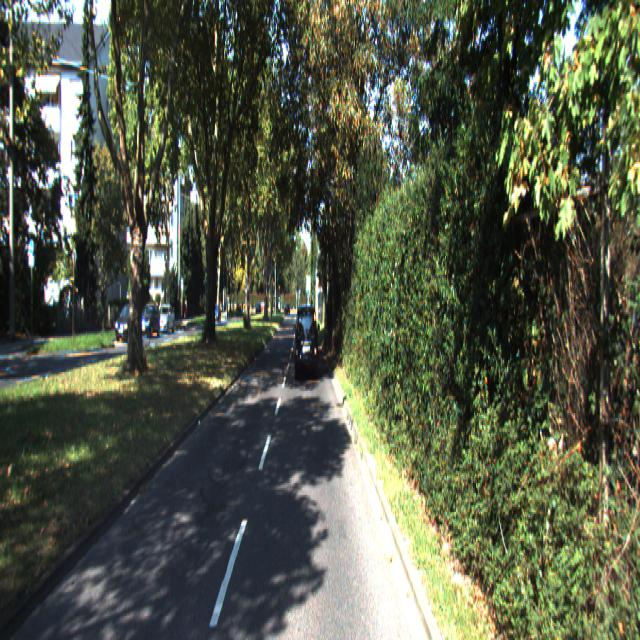Car: (294, 304, 318, 382), (114, 303, 143, 342), (138, 304, 160, 339), (154, 302, 174, 335)
